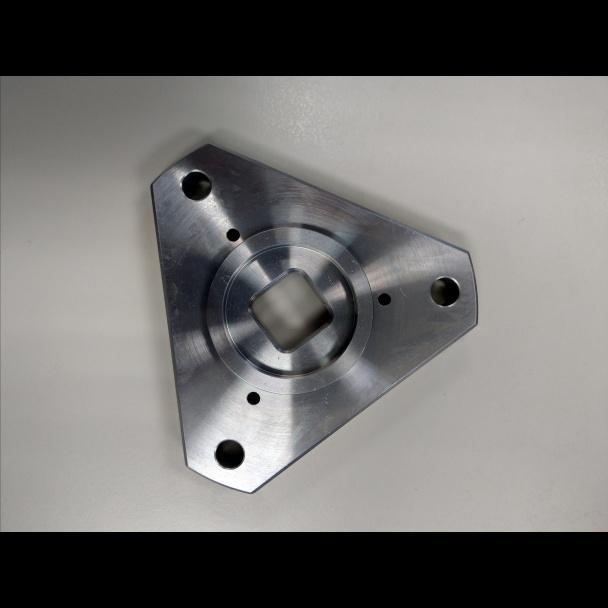hole: (179, 166, 214, 206), (427, 272, 463, 310), (210, 437, 248, 473), (223, 224, 241, 245), (375, 290, 392, 307), (244, 390, 261, 406)
